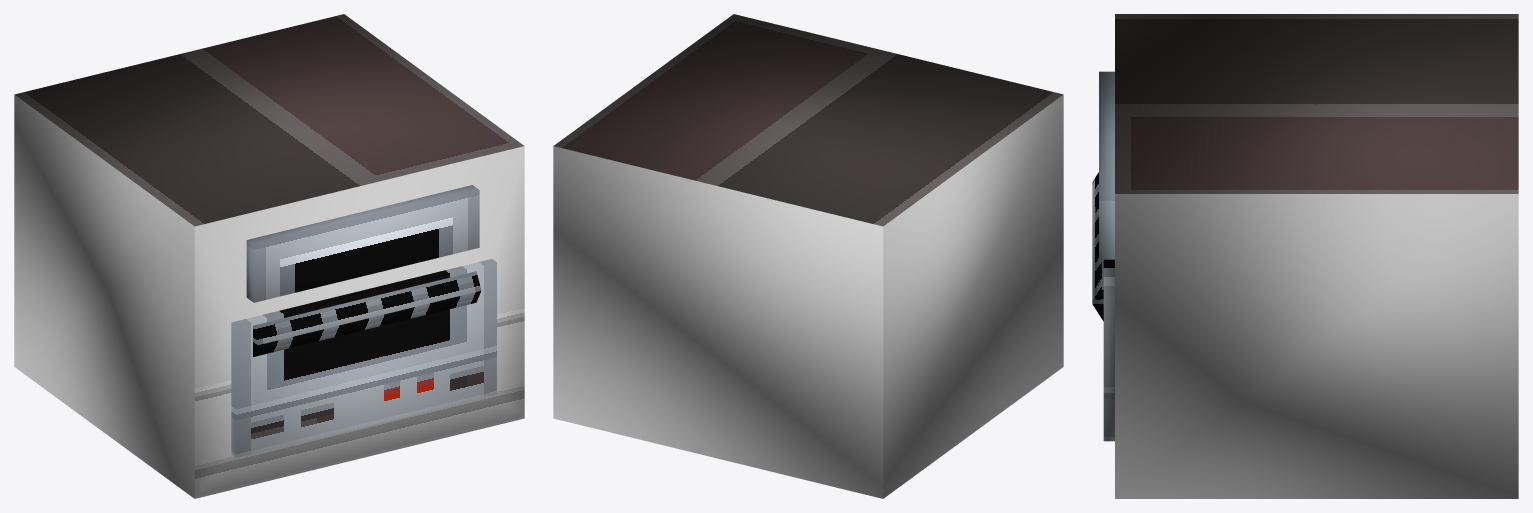
3 views of the same model, side by side, from view 1: azimuth 30°, elevation 25°; view 2: azimuth 150°, elevation 25°; view 3: azimuth 270°, elevation 25° (orthographic). The views are drawn at different scales.
Visible parts, largest first — view 1: 3522IMOT01_03; view 2: 3522IMOT01_03; view 3: 3522IMOT01_03.
Boxes of the visible parts, x1,y1,x2,y2 form: 3522IMOT01_03: [14, 14, 524, 498]; 3522IMOT01_03: [553, 14, 1063, 498]; 3522IMOT01_03: [1092, 14, 1518, 498].
Size of the model in its own units: 0.9502 by 0.75 by 0.9502.
Materials: 4 (4 with a texture image).
